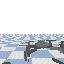drone: (19, 40, 64, 62)
